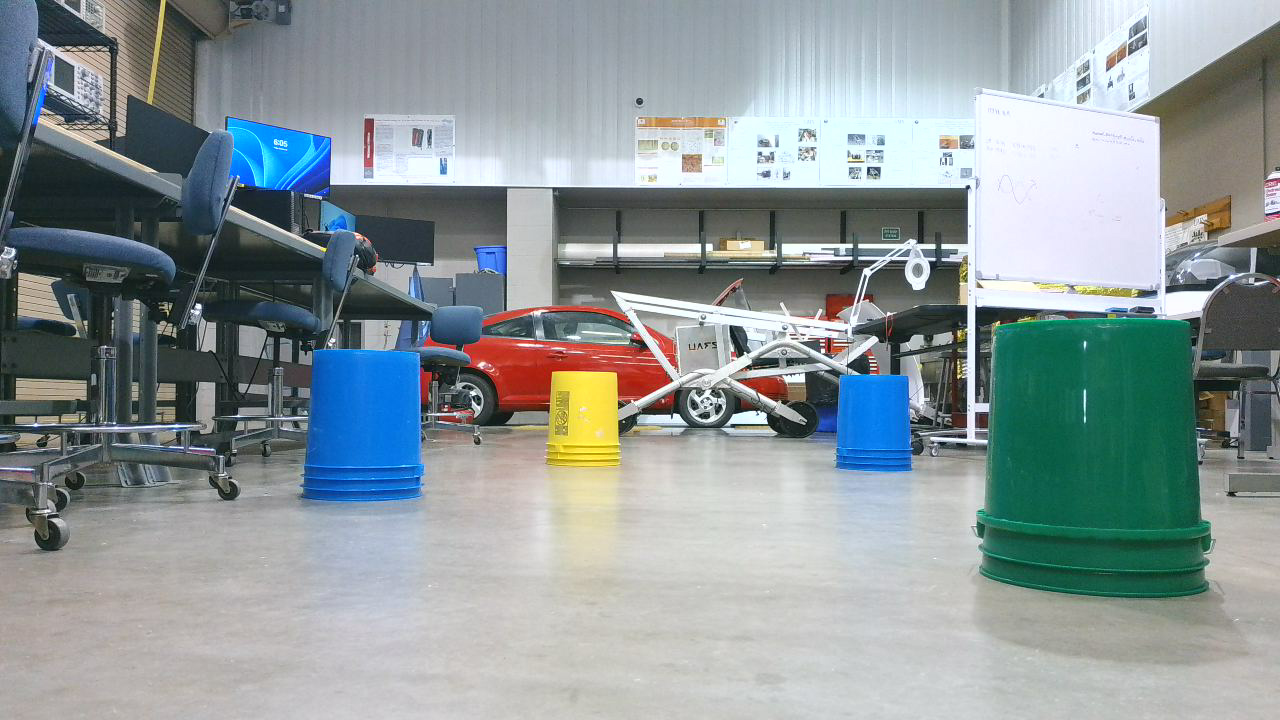blue_bucket: (299, 349, 436, 506), (833, 375, 926, 480)
green_bucket_barrier: (972, 319, 1224, 611)
yellow_bucket: (546, 372, 632, 473)
